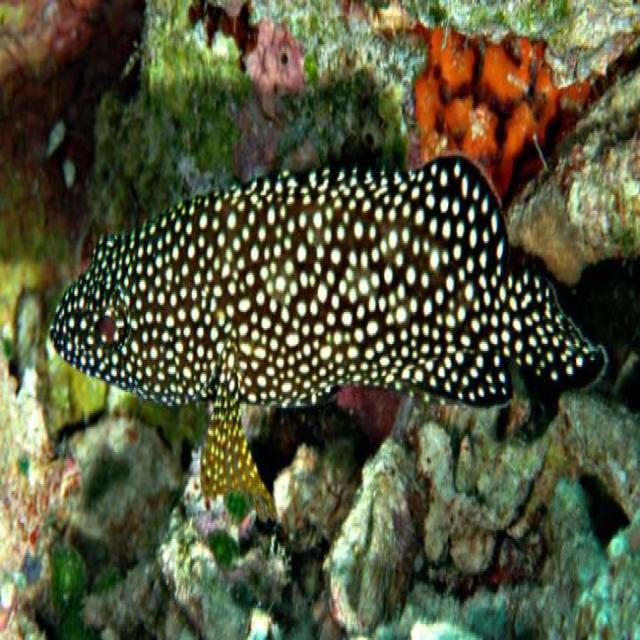ikan: (47, 150, 608, 526)
